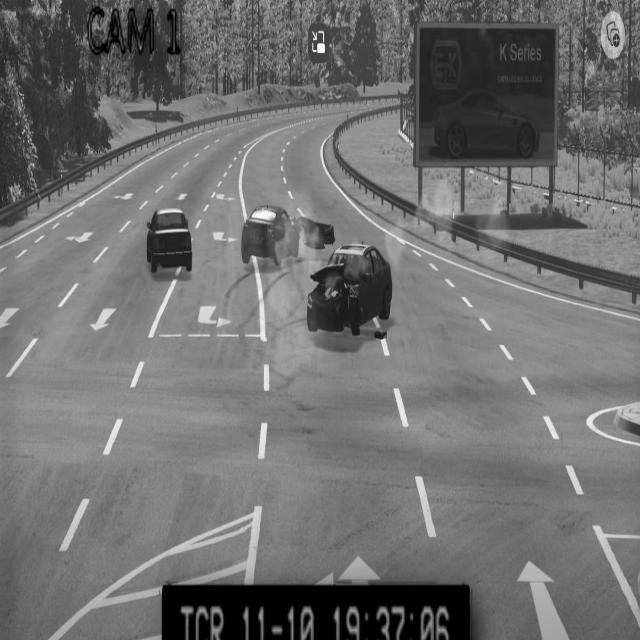accident: (306, 243, 394, 341), (240, 194, 302, 273)
vehicle: (433, 87, 541, 165), (144, 206, 194, 278)
